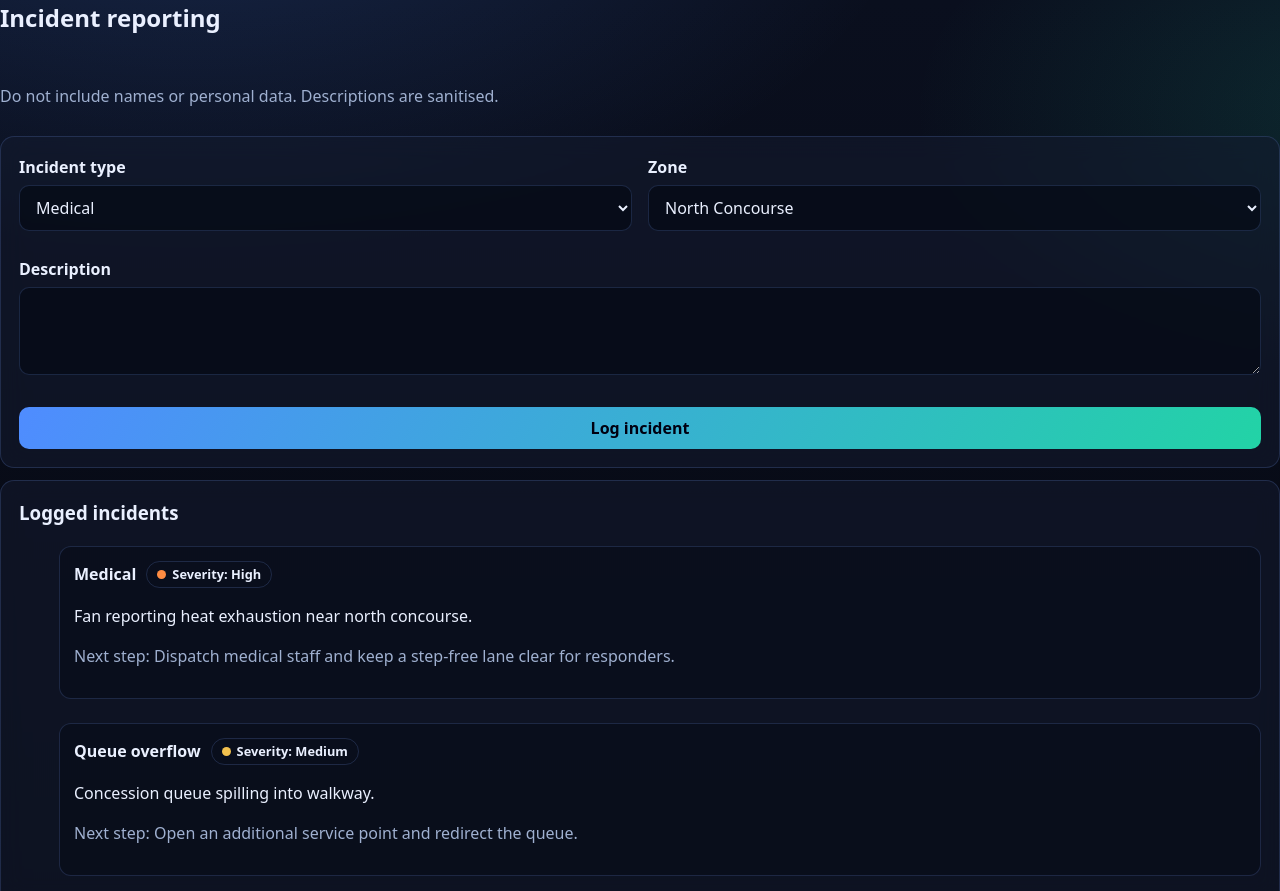
Test: Incidents › shows a validation error for an empty description
Click the button "Log incident": [640, 428] box [19,407,1261,449]
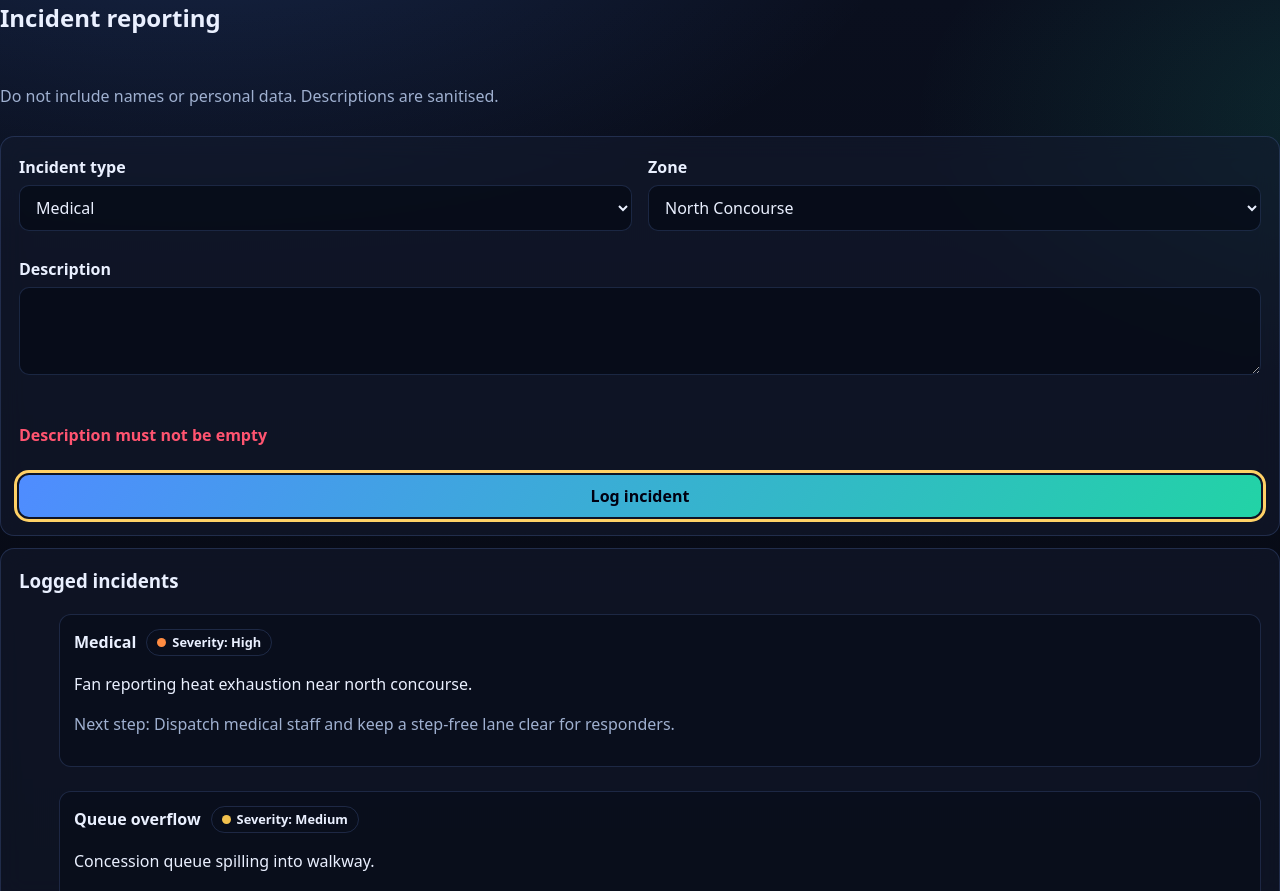
Expected: the message shows "must not be empty", [19,424,267,446]
